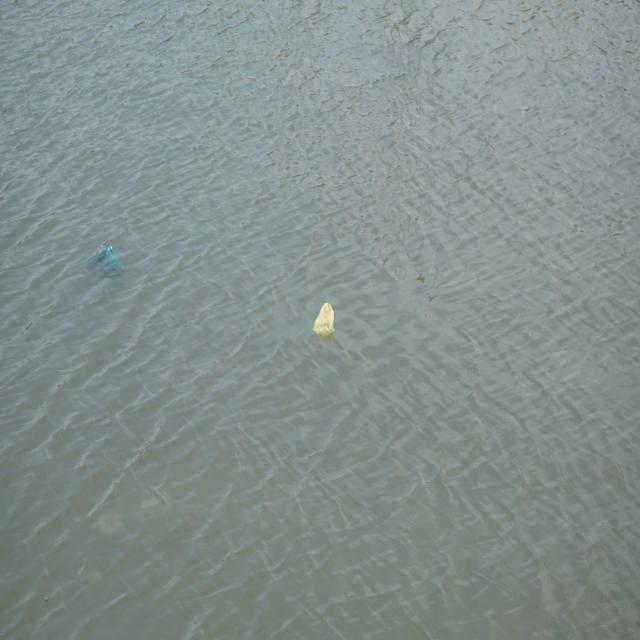Kantong Plastik: (85, 243, 130, 285), (309, 298, 342, 347)
